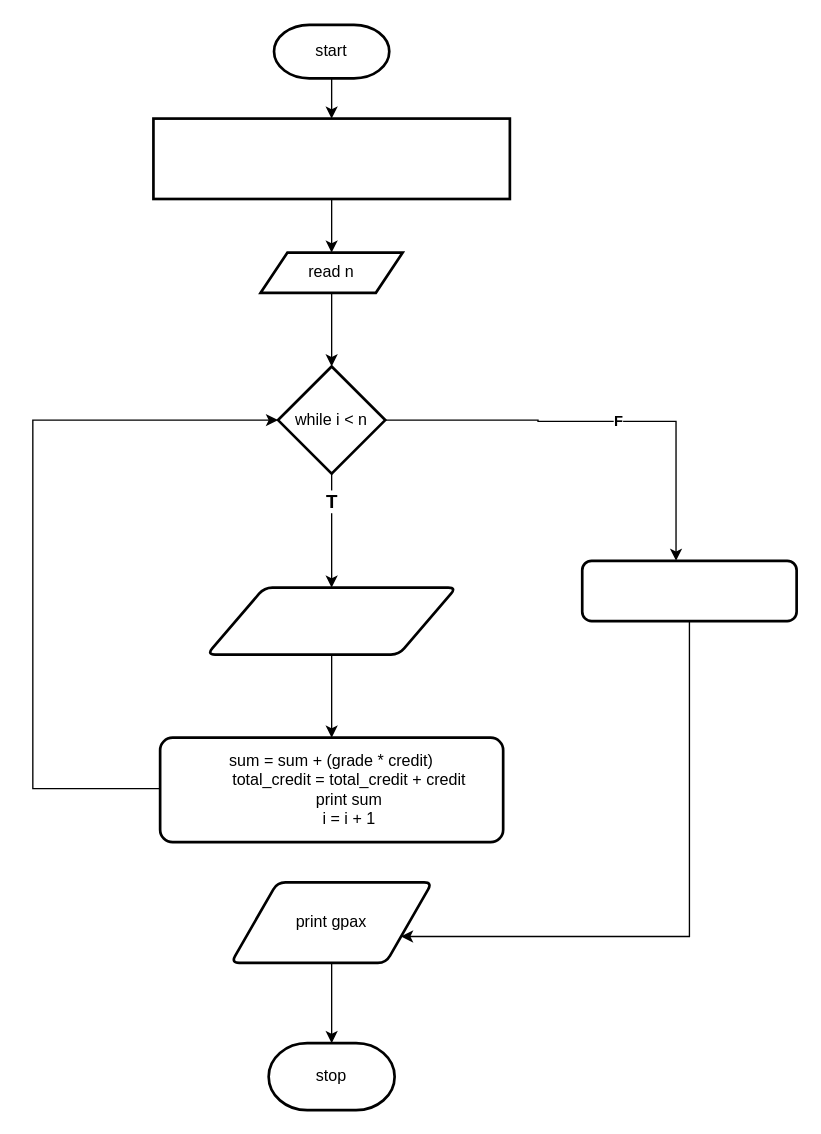
Some shapes in this 821 by 1134 pixel diagram are drawn without their labels. The shapes that lost their labels are listed below. From the top down, each one's centre as x and y in pixels, then its label:
the point at 331,158: n = 0, i = 0, grade = 0, sum = 0, total_credit = 0 gpax = 0.0
the point at 688,590: gpax = sum / total_credit
the point at 331,620: read grade read credit
